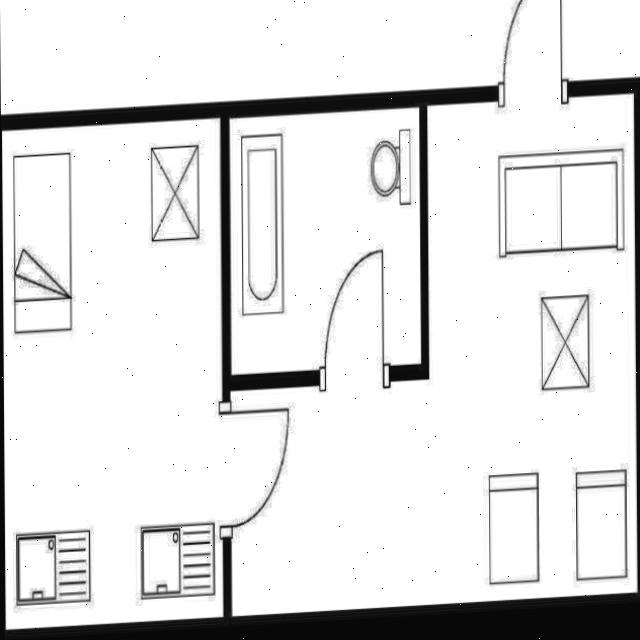room: (228, 94, 638, 616), (2, 118, 224, 630), (229, 107, 421, 375)
